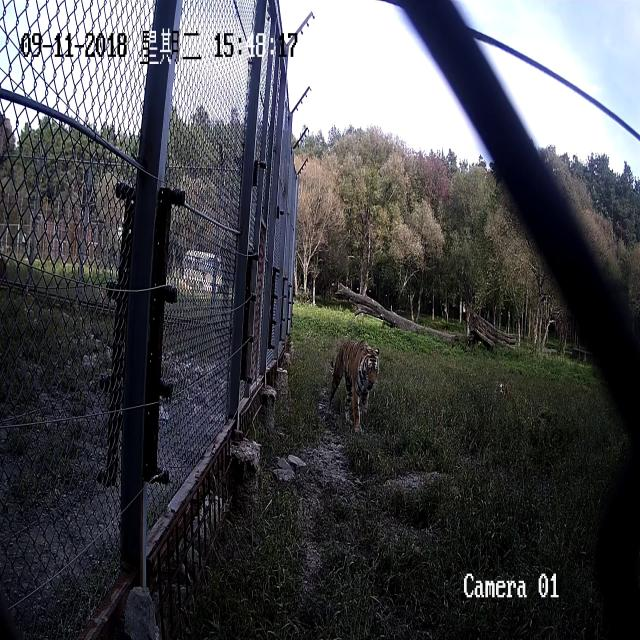Tiger: (327, 337, 379, 436)
